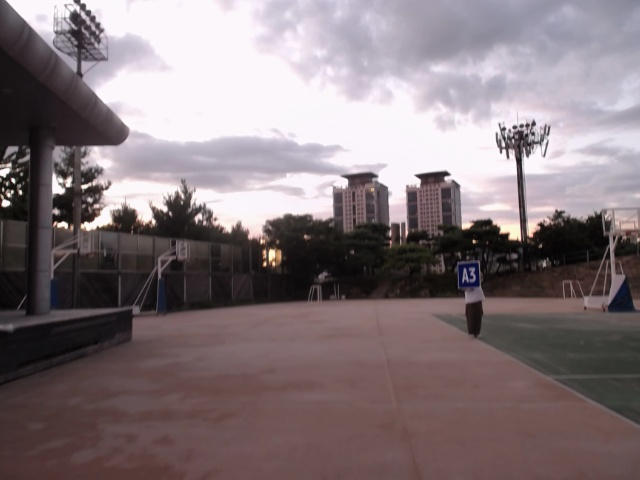delivery_a3: (456, 262, 480, 288)
